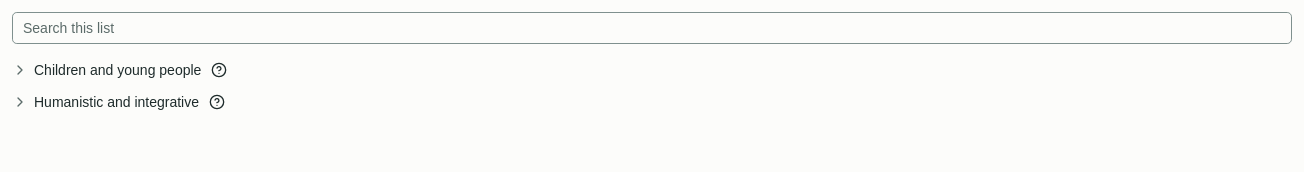
it: CheckboxGroup › under headings › shows every match under its heading while searching
Type "psycho" into the search field named "Search type of therapy" at (652, 28), box [12, 12, 1292, 44]
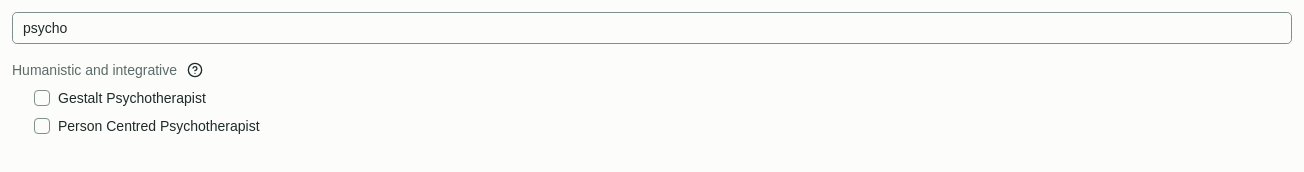
Expected: the text "Humanistic and integrative" is shown, [12, 62, 177, 78]
Result: the number of checkboxes is 2 at [34, 90, 50, 106]; [34, 118, 50, 134]
